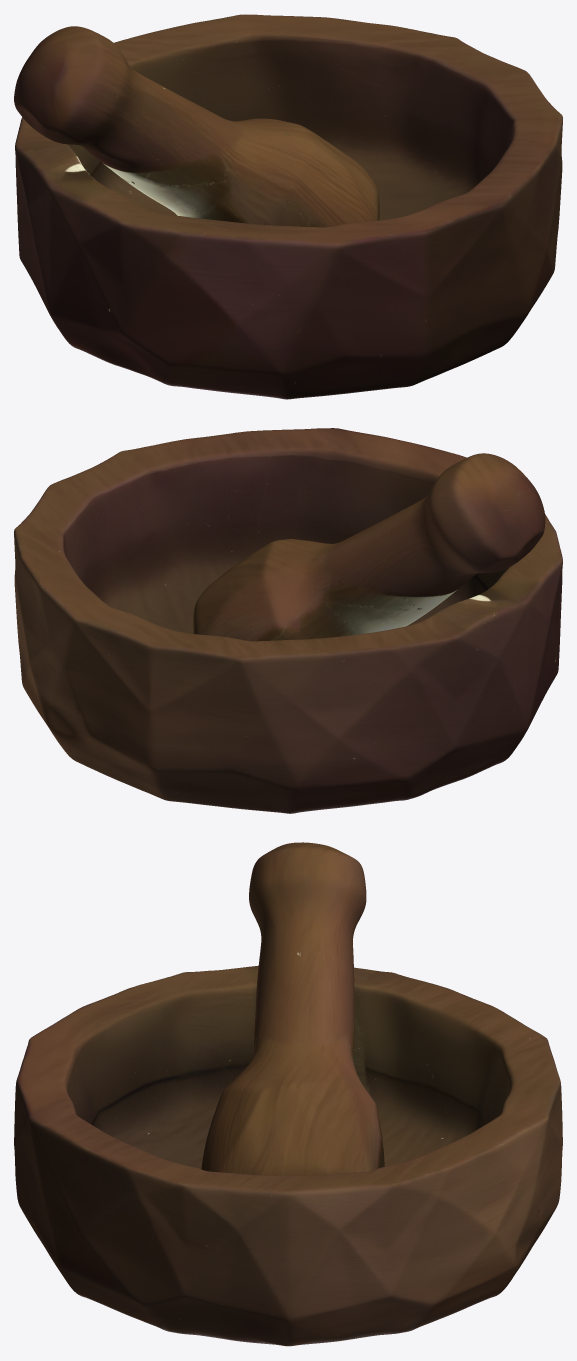
Rendered from Meshy_AI_stone_0312012831_texture.fbx.
3 views of the same model, one above another, from view 1: azimuth 30°, elevation 25°; view 2: azimuth 150°, elevation 25°; view 3: azimuth 270°, elevation 25° (orthographic).
Parts seen in each view (by area): view 1: Mesh_0; view 2: Mesh_0; view 3: Mesh_0.
Boxes of the visible parts, x1,y1,x2,y2 form: Mesh_0: (14,14,562,399); Mesh_0: (14,428,562,813); Mesh_0: (14,842,562,1346).
Bounding box in the file's own units: 190 × 119 × 184.
1 material, 1 textured.
